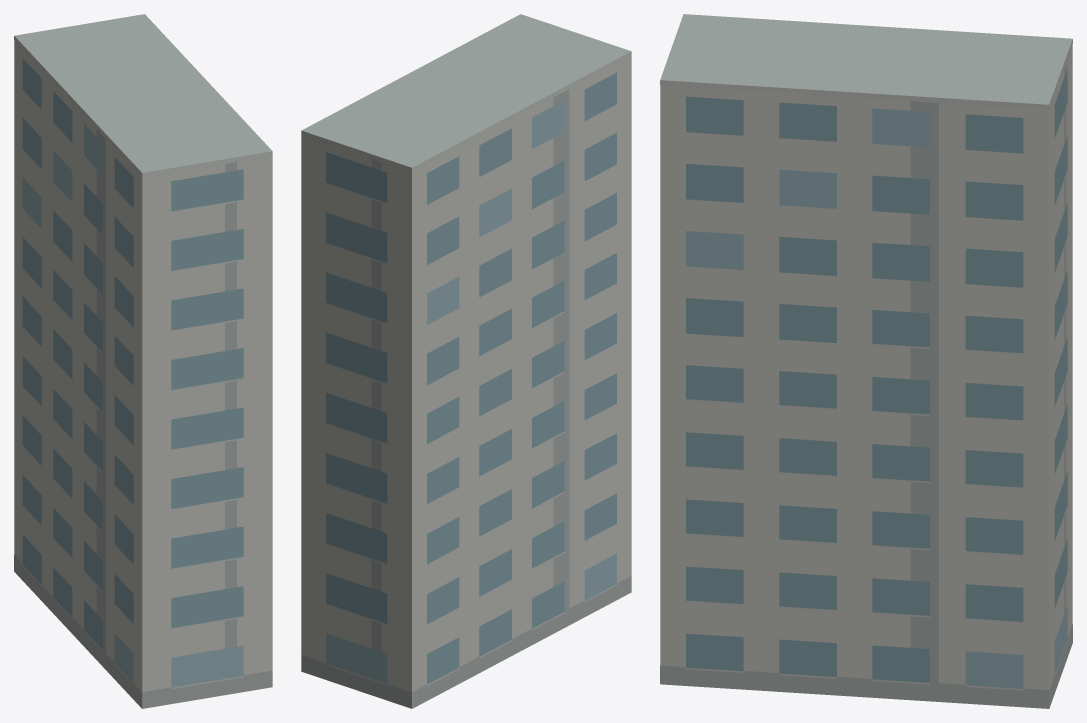
File: residential-986fa5ef-56f2-43a4-8144-8e7a288b2881.glb
3 renders of one model, left to right at view 1: azimuth 30°, elevation 25°; view 2: azimuth 150°, elevation 25°; view 3: azimuth 270°, elevation 25°, orthographic. The views are drawn at different scales.
Visible parts, largest first — view 1: residential-986fa5ef-56f2-43a4-8144-8e7a288b2881.tmp; view 2: residential-986fa5ef-56f2-43a4-8144-8e7a288b2881.tmp; view 3: residential-986fa5ef-56f2-43a4-8144-8e7a288b2881.tmp.
Part boxes in pixels (x1,y1,x2,y2): residential-986fa5ef-56f2-43a4-8144-8e7a288b2881.tmp: [14, 14, 272, 708]; residential-986fa5ef-56f2-43a4-8144-8e7a288b2881.tmp: [301, 14, 631, 708]; residential-986fa5ef-56f2-43a4-8144-8e7a288b2881.tmp: [660, 14, 1072, 708].
Size of the model in its own units: 9.03 by 28 by 17.34.
